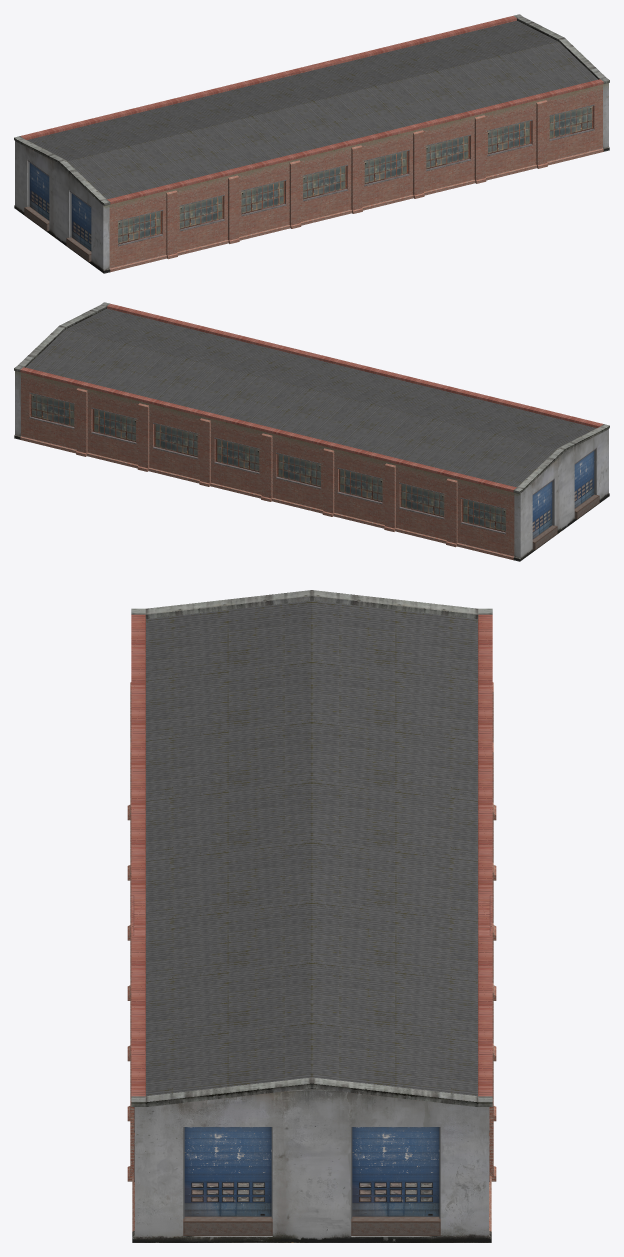
Rendered from long_warehouse.glb.
The picture shows the model from 3 angles, top to bottom: view 1: azimuth 30°, elevation 25°; view 2: azimuth 150°, elevation 25°; view 3: azimuth 270°, elevation 25°; orthographic projection. The views are drawn at different scales.
Visible parts, largest first — view 1: warehouse_Roof, parapet, industrialWindow.002, warehouse facade, brick_Wall.014, brick_Wall.015, decalMoss, brick_Wall.004, brick_Wall.007, brick_Wall.006, brick_Wall.003, brick_Wall.005 (+11 smaller); view 2: warehouse_Roof, parapet, industrialWindow.002, warehouse facade, brick_Wall.017, brick_Wall.016, decalMoss, brick_Wall.008, brick_Wall.011, brick_Wall.009, brick_Wall.012, brick_Wall.010 (+11 smaller); view 3: warehouse_Roof, warehouse facade, parapet, rollUpDoor.002, rollUpDoor.003.
Boxes of the visible parts, x1,y1,x2,y2 form: warehouse_Roof: (27, 20, 597, 199); parapet: (14, 14, 609, 205); industrialWindow.002: (179, 119, 532, 231); warehouse facade: (14, 83, 609, 273); brick_Wall.014: (109, 190, 170, 272); brick_Wall.015: (541, 84, 603, 165); decalMoss: (103, 83, 608, 209); brick_Wall.004: (294, 145, 355, 225); brick_Wall.007: (480, 100, 540, 180); brick_Wall.006: (418, 115, 479, 195); brick_Wall.003: (233, 160, 294, 240); brick_Wall.005: (356, 129, 417, 210); warehouse_Roof: (26, 308, 596, 487); parapet: (14, 302, 609, 493); industrialWindow.002: (91, 407, 444, 519); warehouse facade: (14, 371, 609, 561); brick_Wall.017: (453, 478, 514, 560); brick_Wall.016: (20, 372, 82, 453); decalMoss: (15, 371, 520, 497); brick_Wall.008: (83, 388, 143, 468); brick_Wall.011: (268, 433, 329, 513); brick_Wall.009: (144, 403, 205, 483); brick_Wall.012: (329, 448, 390, 528); brick_Wall.010: (206, 417, 267, 498); warehouse_Roof: (146, 600, 477, 1095); warehouse facade: (132, 1088, 491, 1242); parapet: (131, 590, 492, 1106); rollUpDoor.002: (351, 1127, 440, 1235); rollUpDoor.003: (183, 1127, 272, 1235).
Size of the model in its own units: 33.06 by 4.95 by 10.38.
6 materials, 6 textured.
